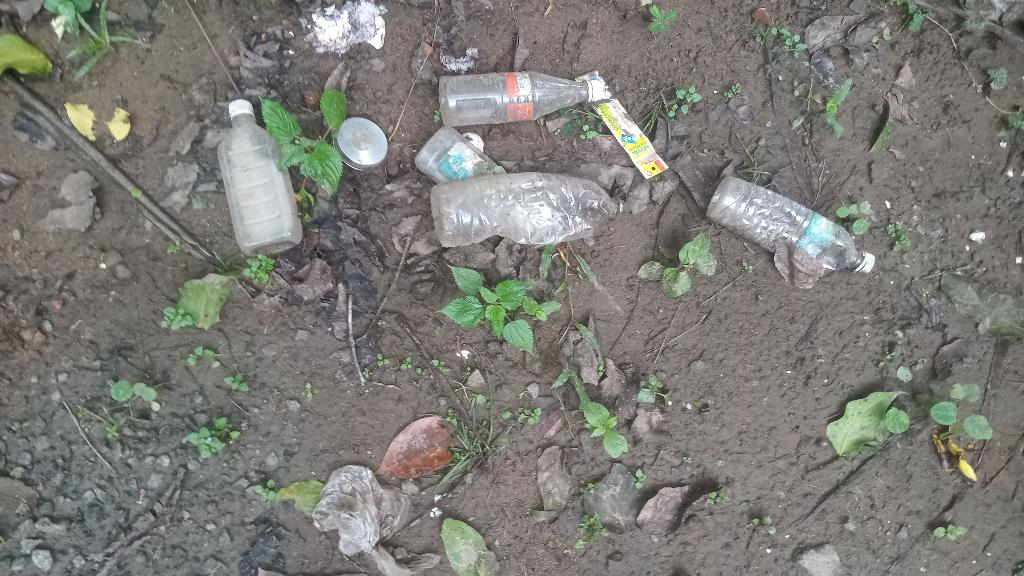garbage: (697, 158, 876, 285), (206, 91, 308, 261), (306, 452, 428, 575), (427, 174, 628, 248), (422, 65, 609, 133), (410, 123, 509, 186)
